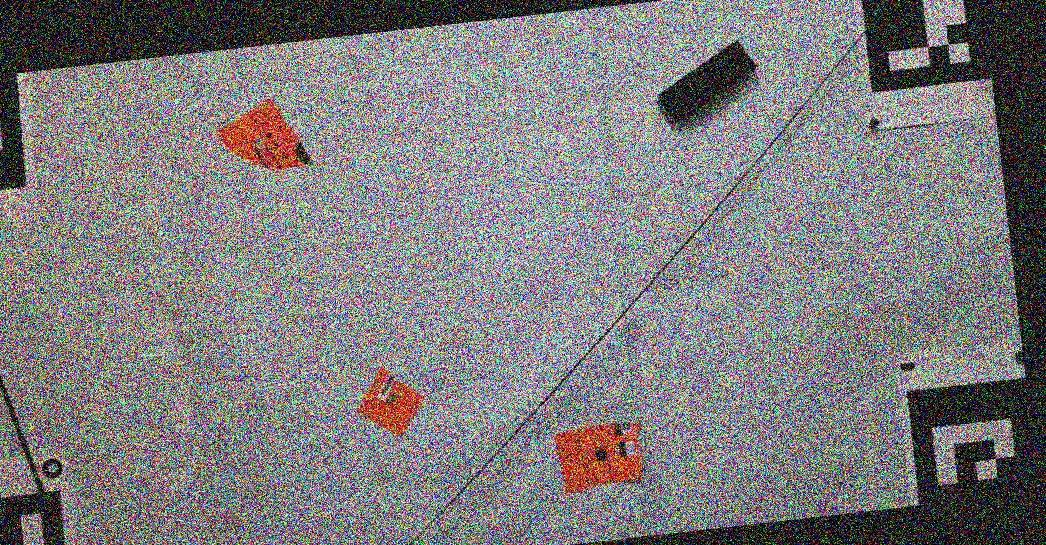obstacle: (655, 40, 756, 126), (217, 97, 312, 171), (554, 423, 642, 492), (355, 367, 421, 438)
